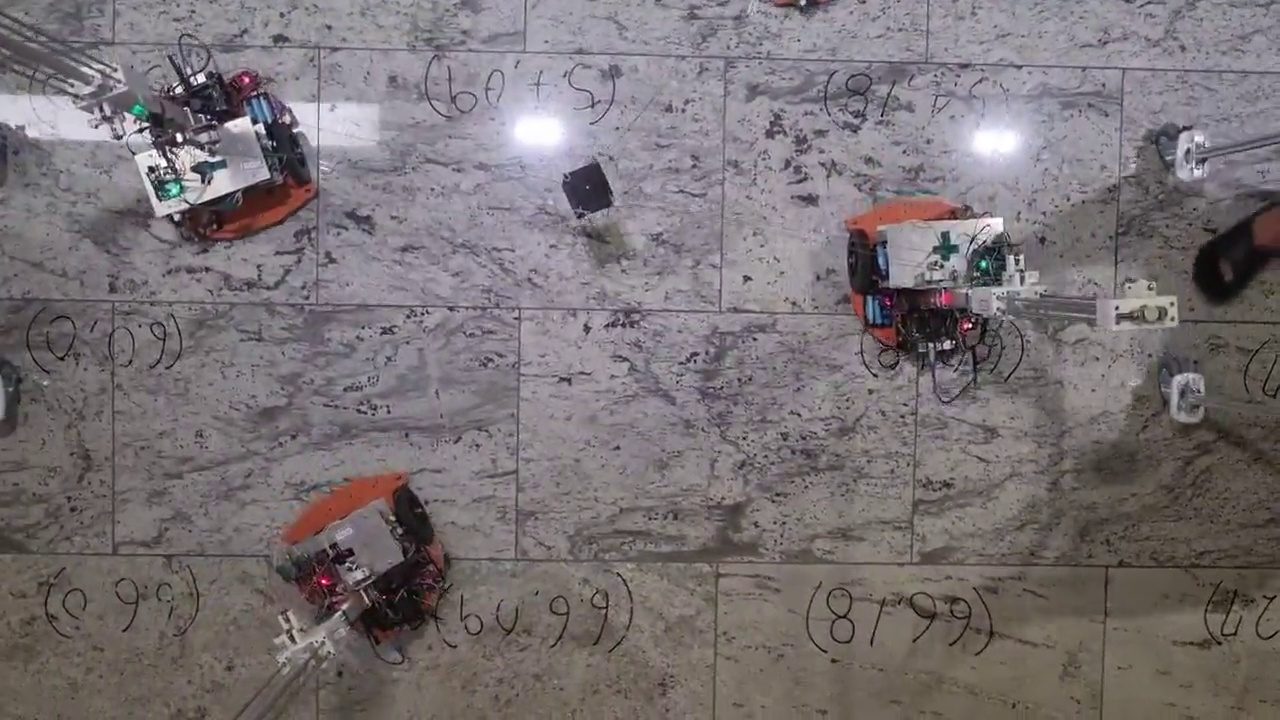e0: (561, 164, 615, 219)
r1: (848, 219, 1014, 293)
r2: (798, 2, 816, 13)
r3: (158, 123, 311, 225)
r4: (283, 487, 434, 599)
y_+_axis_vector: (724, 58, 1124, 69)
y_-_axis_vector: (320, 48, 725, 58)
